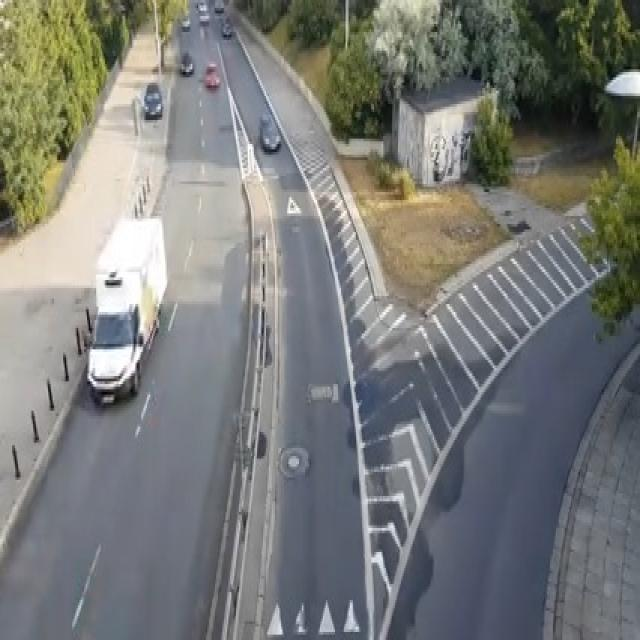bus: (86, 211, 166, 405)
car: (86, 304, 142, 405), (258, 112, 281, 152), (141, 83, 162, 117), (204, 61, 220, 88), (180, 50, 192, 74), (221, 16, 231, 37), (198, 8, 209, 24), (180, 16, 190, 29), (213, 0, 224, 11), (195, 0, 206, 11)
